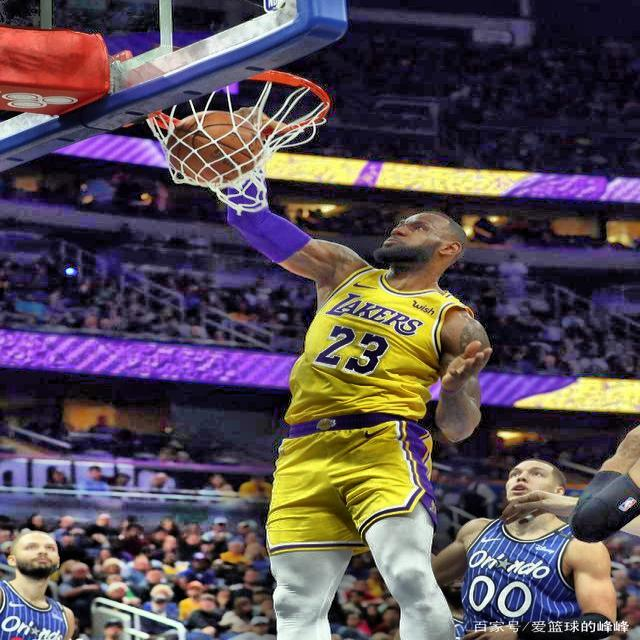rim: (150, 70, 330, 210)
